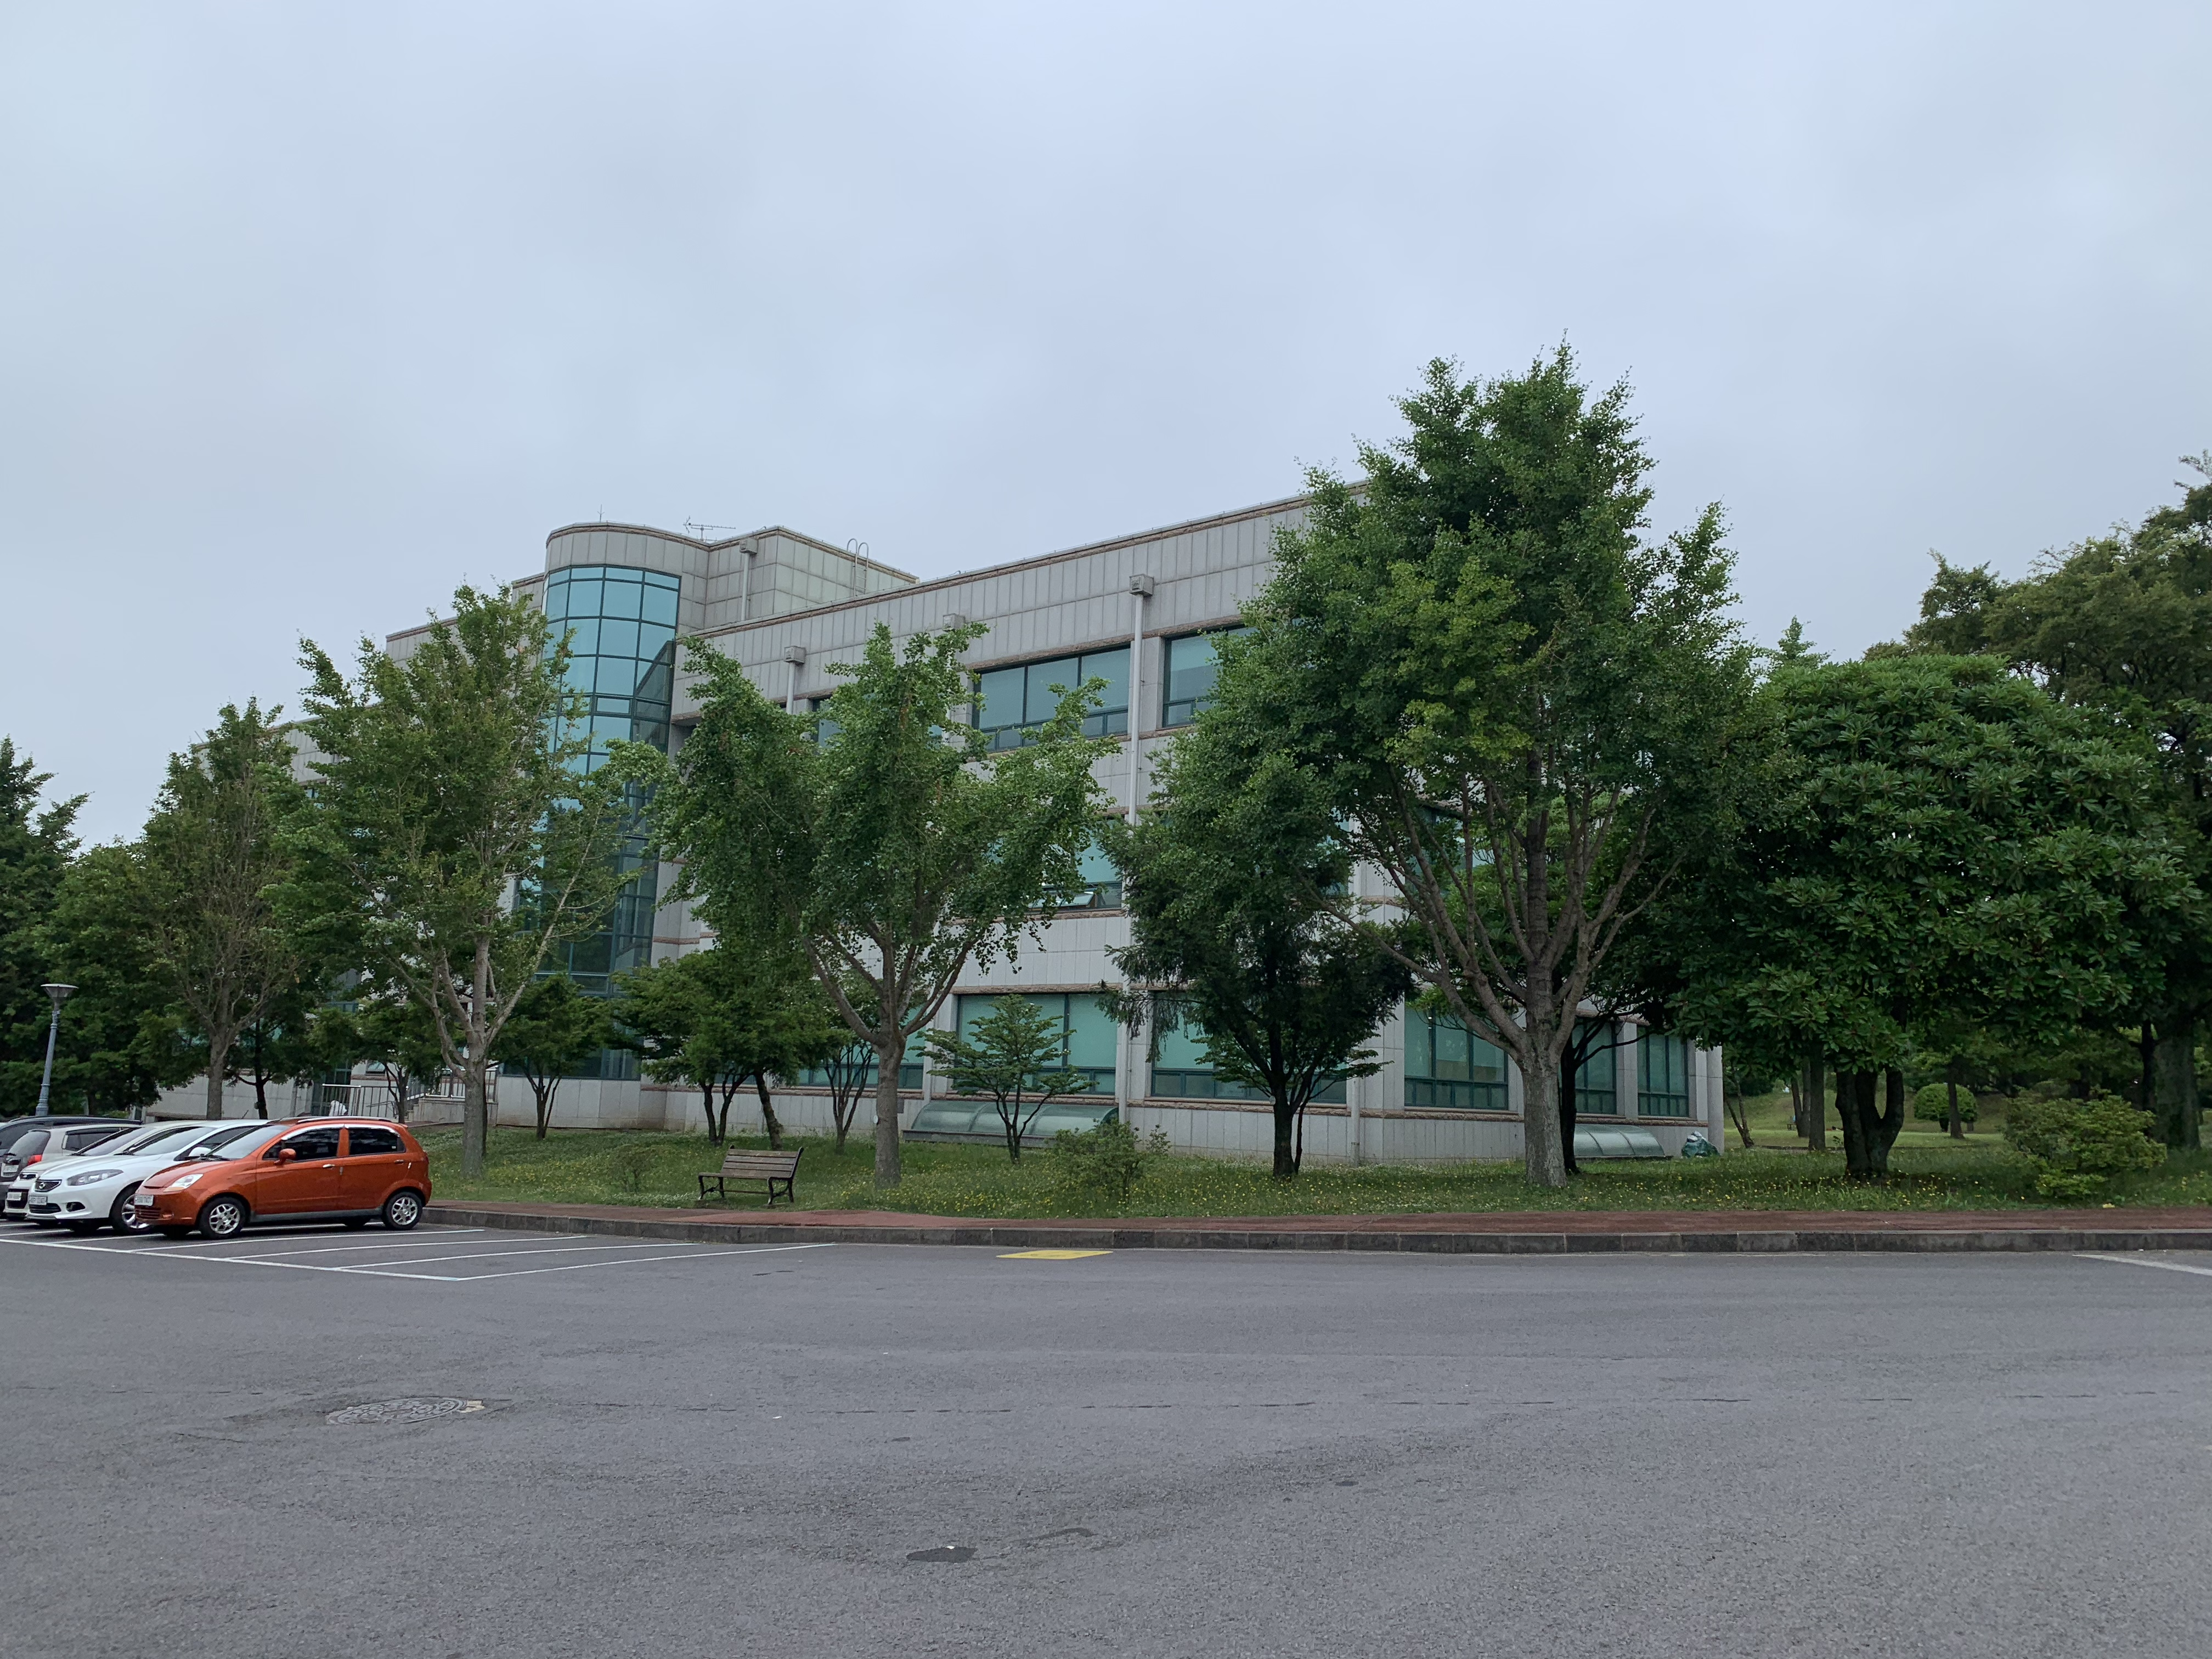Second Library: (378, 488, 1716, 1162)
